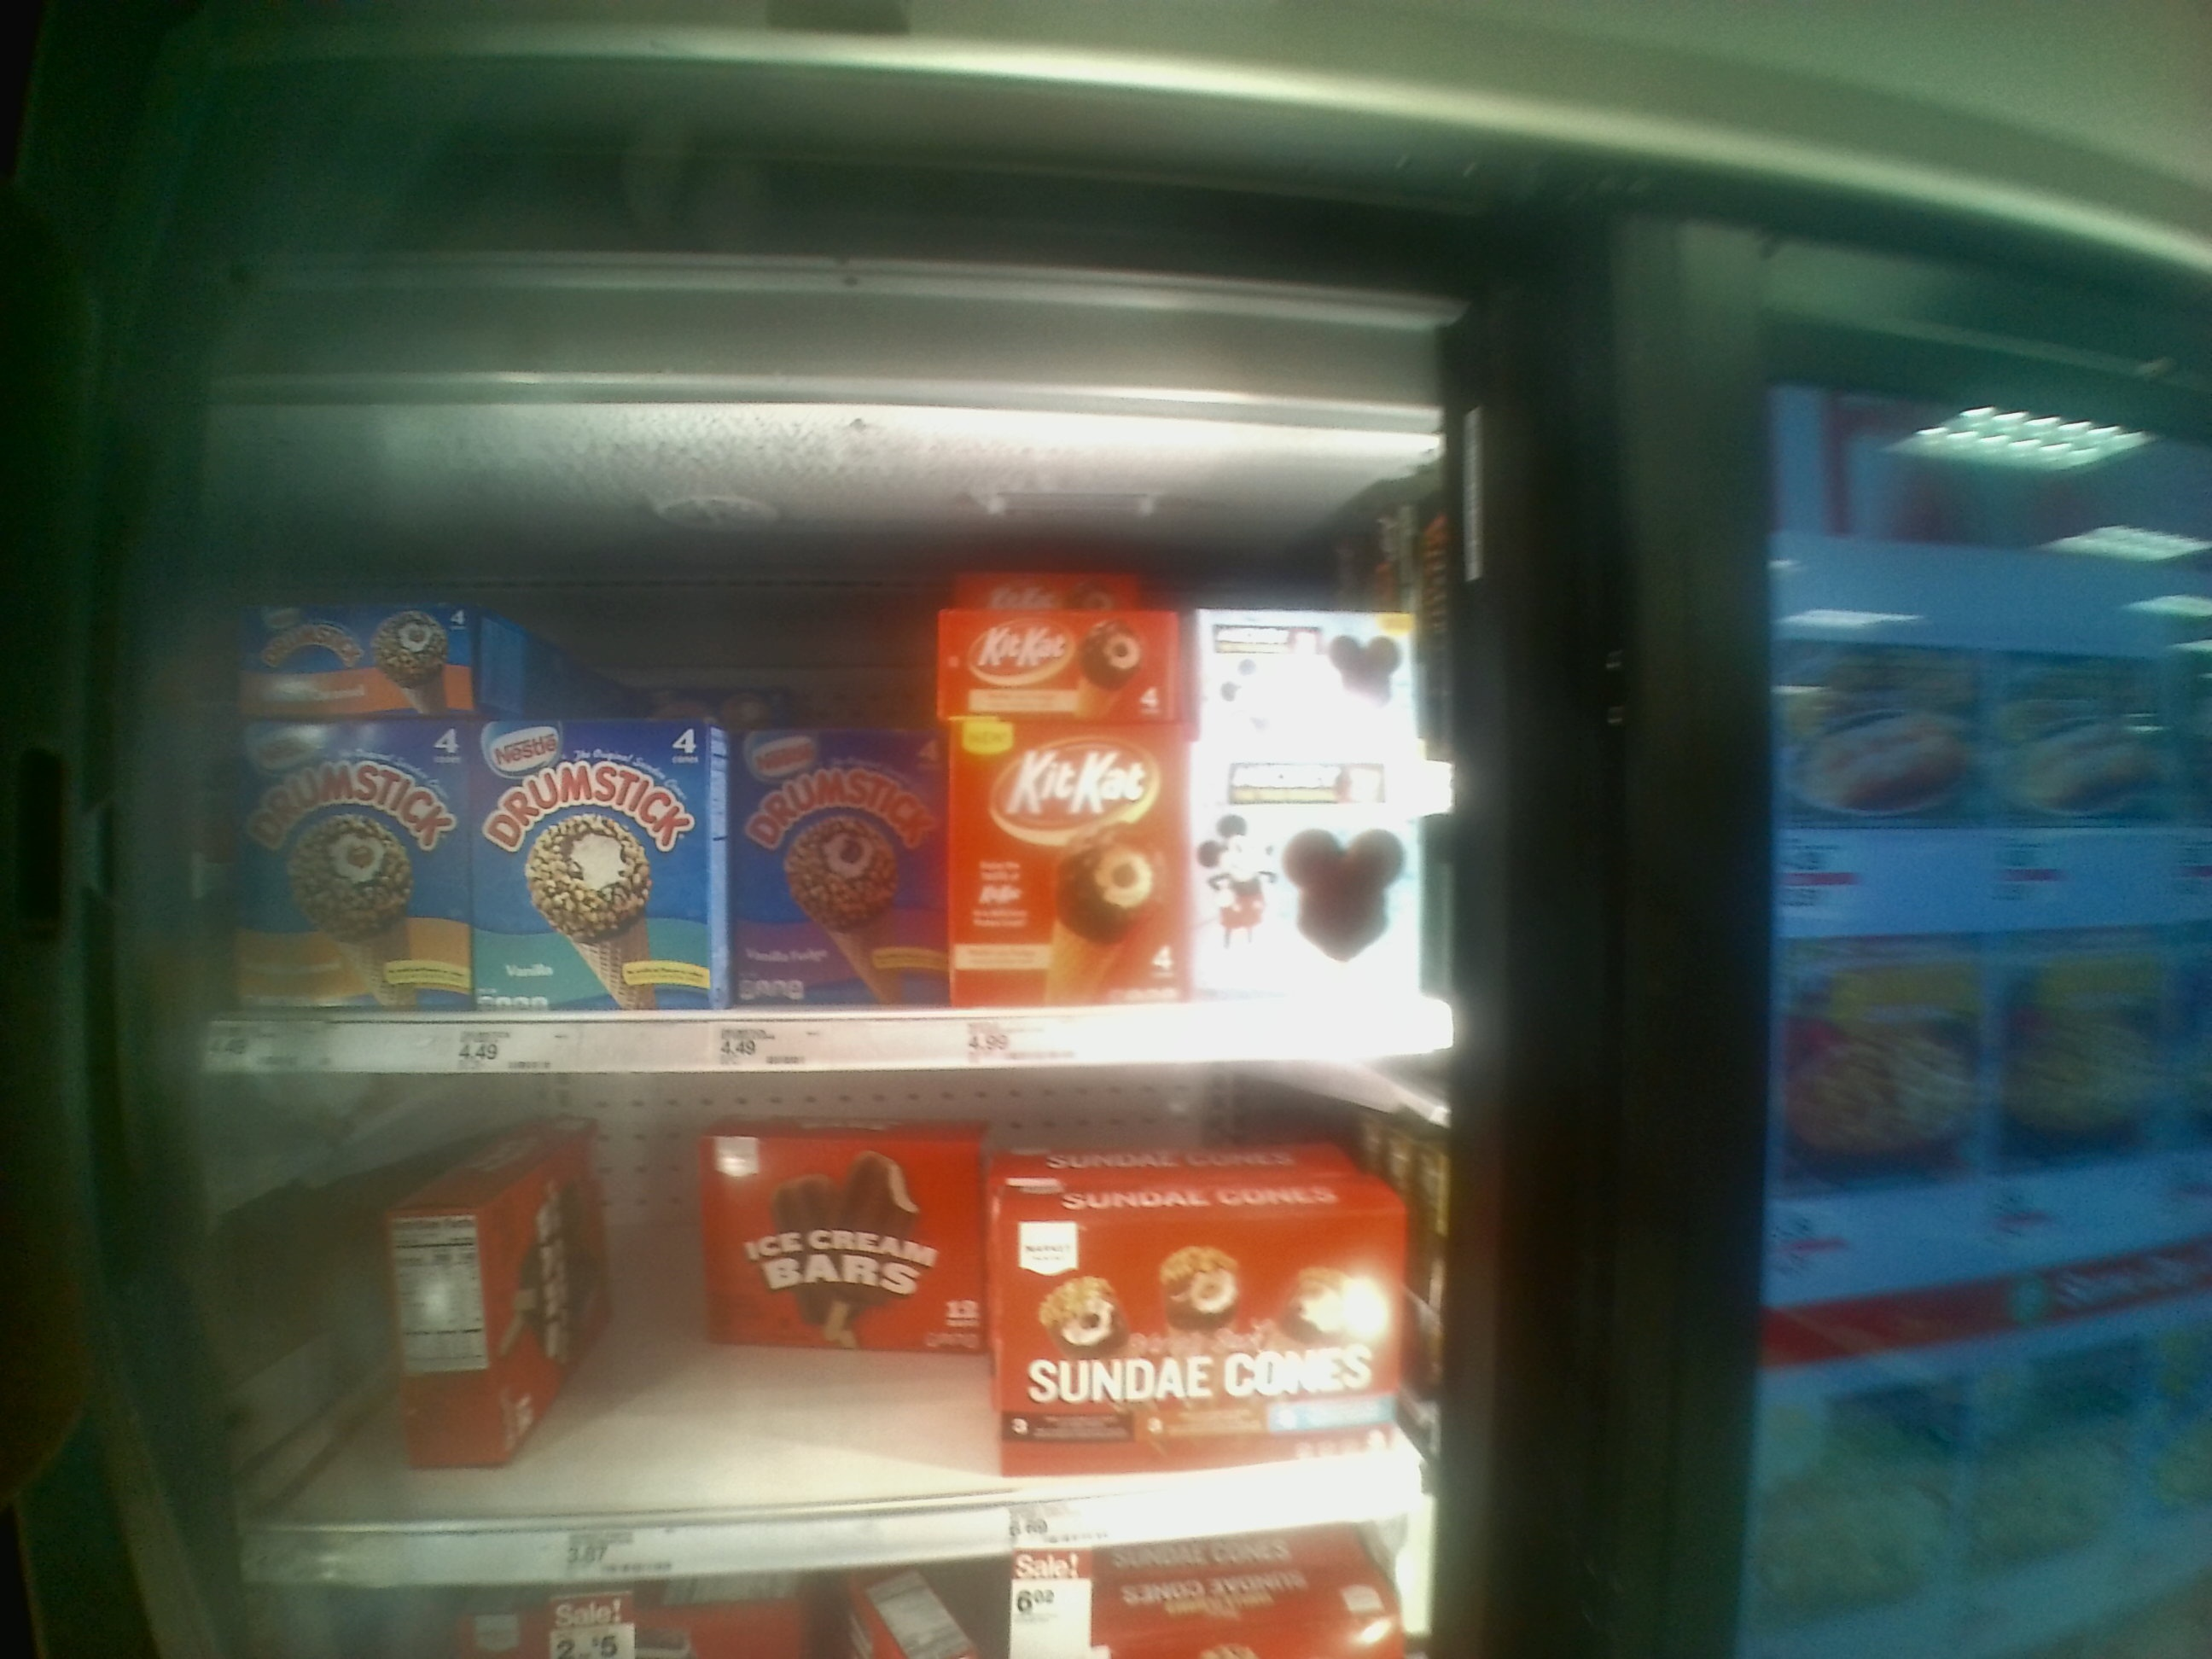shelf: (195, 416, 1451, 1054), (212, 1044, 1451, 1532)
